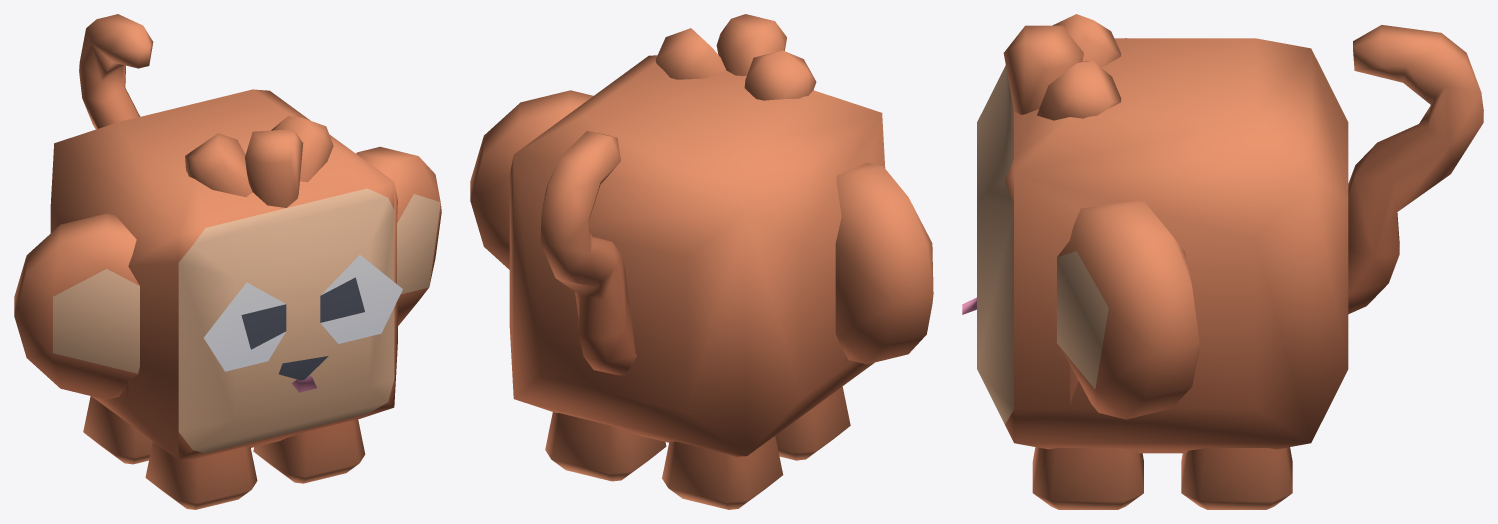
Rendered from cc0-monkey-lod1.glb.
3 views of the same model, side by side, from view 1: azimuth 30°, elevation 25°; view 2: azimuth 150°, elevation 25°; view 3: azimuth 270°, elevation 25° (orthographic). The views are drawn at different scales.
Parts seen in each view (by area): view 1: part_5, part_6, part_2, part_1, part_3; view 2: part_5, part_6, part_3, part_4, part_2; view 3: part_5, part_6, part_4, part_1.
Boxes of the visible parts, x1,y1,x2,y2 form: part_5: [14, 89, 441, 460]; part_6: [79, 14, 153, 129]; part_2: [145, 441, 257, 509]; part_1: [253, 419, 365, 483]; part_3: [83, 396, 152, 464]; part_5: [470, 14, 933, 456]; part_6: [540, 131, 636, 375]; part_3: [662, 436, 783, 509]; part_4: [545, 412, 666, 481]; part_2: [775, 386, 850, 460]; part_5: [962, 14, 1348, 453]; part_6: [1348, 25, 1483, 314]; part_4: [1181, 447, 1292, 509]; part_1: [1032, 447, 1143, 509].
Size of the model in its own units: 1.98 by 1.6 by 1.75.
Materials: 1 (1 with a texture image).
